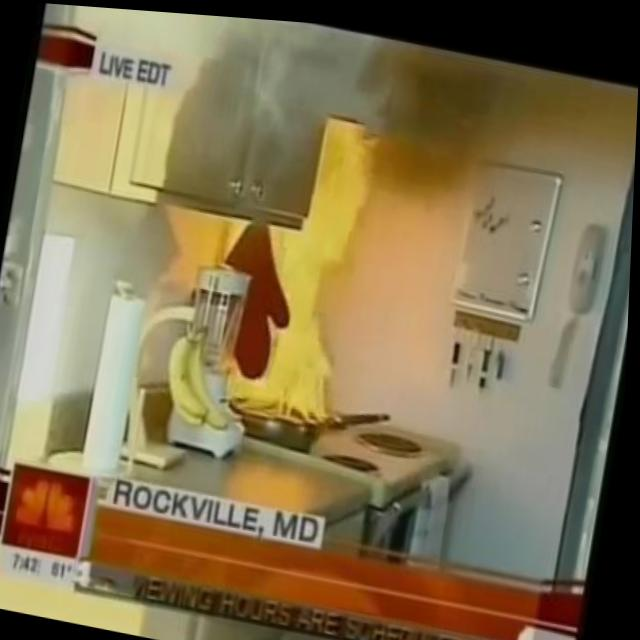fire: (223, 139, 382, 420)
